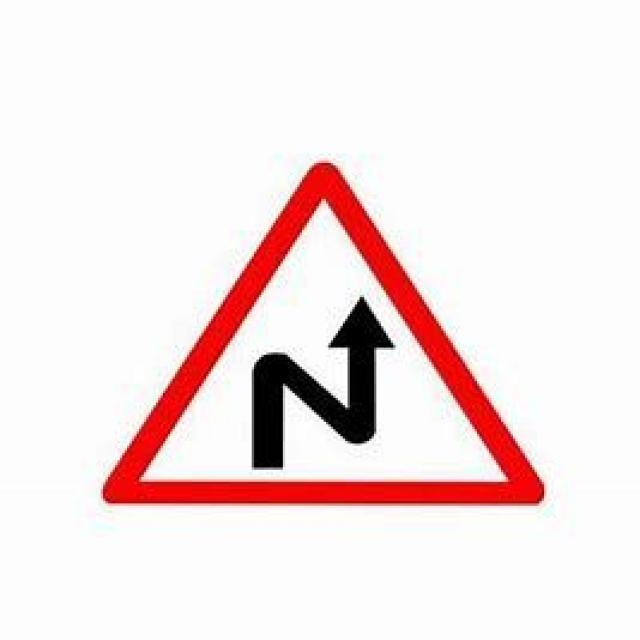right reverse bend: (99, 156, 547, 510)
